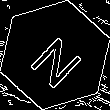N_NE: (23, 23, 87, 87)
